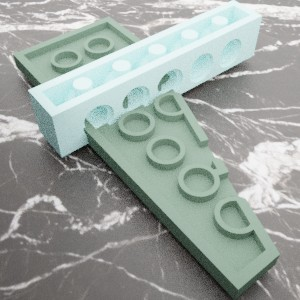lego: (12, 16, 280, 299), (28, 0, 262, 157)
